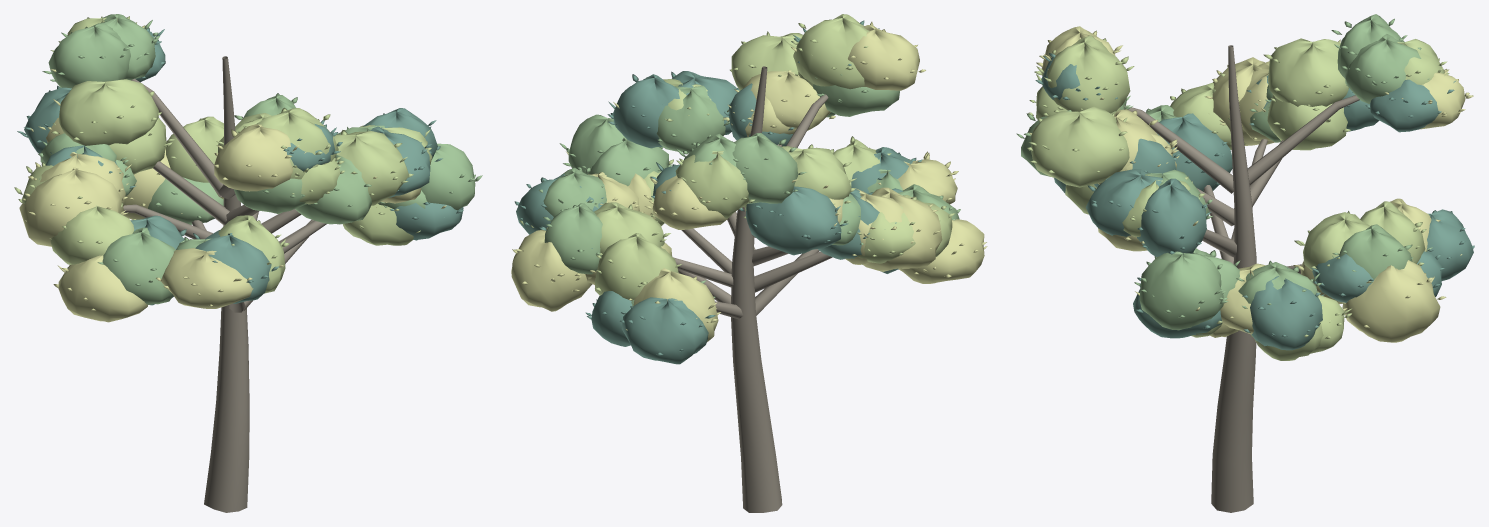
Rendered from oak_leaning.glb.
3 views of the same model, side by side, from view 1: azimuth 30°, elevation 25°; view 2: azimuth 150°, elevation 25°; view 3: azimuth 270°, elevation 25° (orthographic). The views are drawn at different scales.
Parts seen in each view (by area): view 1: oak_leaning; view 2: oak_leaning; view 3: oak_leaning.
Boxes of the visible parts, x1,y1,x2,y2 form: oak_leaning: (14, 14, 482, 512); oak_leaning: (511, 14, 987, 512); oak_leaning: (1016, 14, 1474, 512).
Bounding box in the file's own units: 8.18 × 8.41 × 7.65.
